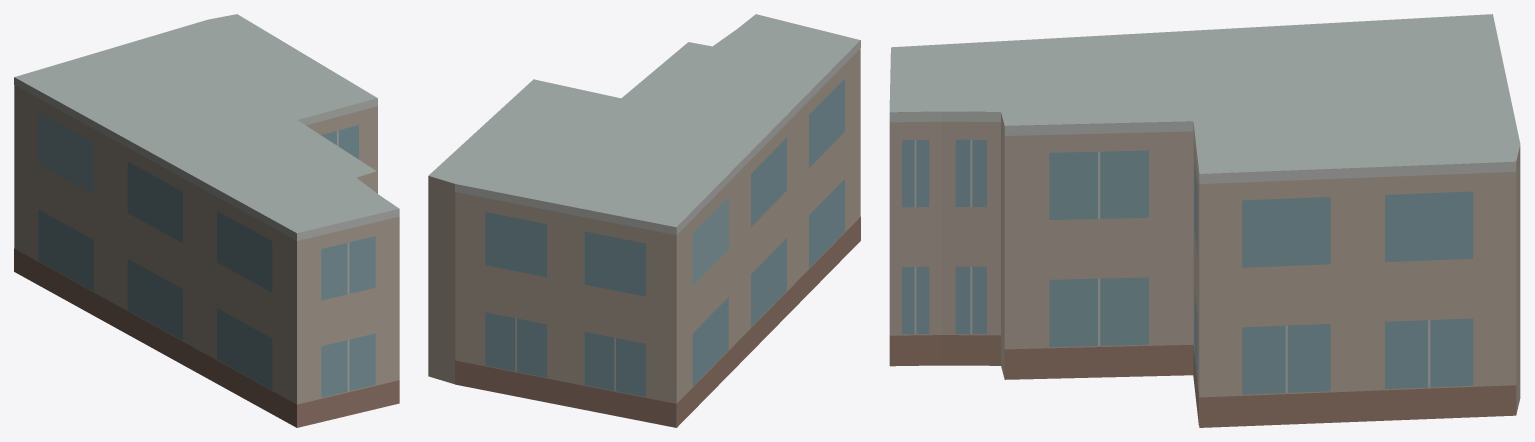
Rendered from survey-upis-32644355.glb.
3 renders of one model, left to right at view 1: azimuth 30°, elevation 25°; view 2: azimuth 150°, elevation 25°; view 3: azimuth 270°, elevation 25°, orthographic. The views are drawn at different scales.
Parts seen in each view (by area): view 1: survey-upis-32644355.tmp; view 2: survey-upis-32644355.tmp; view 3: survey-upis-32644355.tmp.
Boxes of the visible parts, box(x1,y1,x2,y2) form: survey-upis-32644355.tmp: box(14, 14, 399, 427); survey-upis-32644355.tmp: box(428, 14, 860, 427); survey-upis-32644355.tmp: box(889, 14, 1520, 427).
Bounding box in the file's own units: 8.25 × 6.1 × 13.75.
